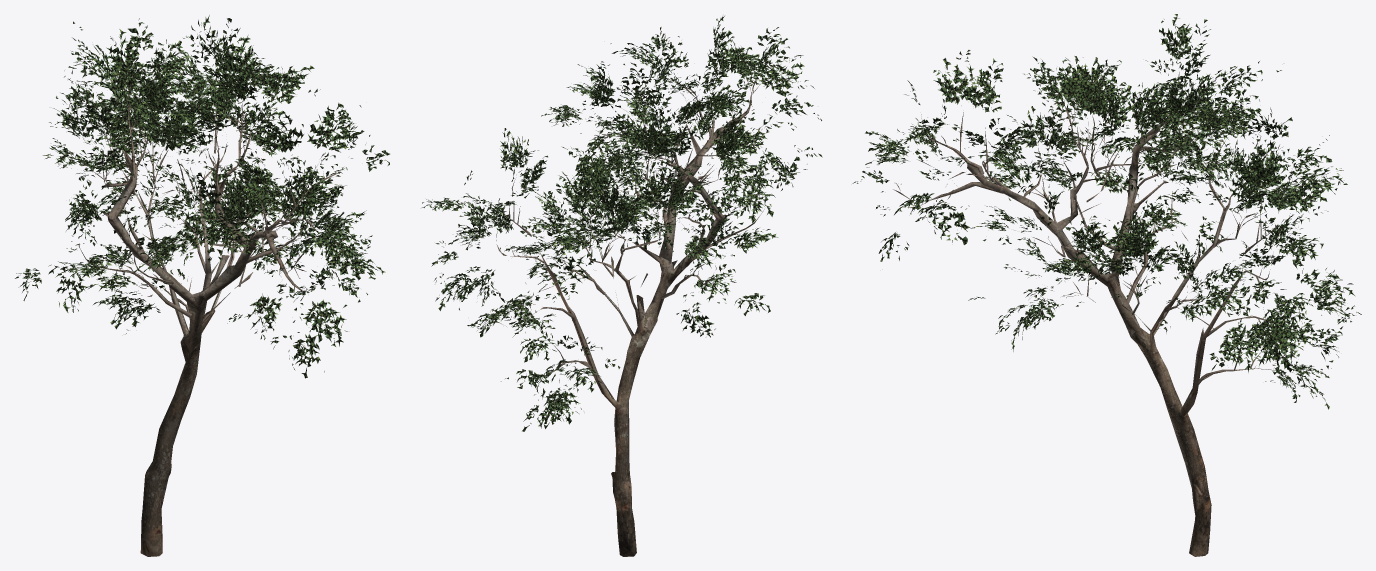
The model's file is tree_b.glb.
3 views of the same model, side by side, from view 1: azimuth 30°, elevation 25°; view 2: azimuth 150°, elevation 25°; view 3: azimuth 270°, elevation 25° (orthographic). The views are drawn at different scales.
Parts seen in each view (by area): view 1: tree_small_02_LOD0; view 2: tree_small_02_LOD0; view 3: tree_small_02_LOD0.
Boxes of the visible parts, x1,y1,x2,y2 form: tree_small_02_LOD0: (15, 15, 389, 556); tree_small_02_LOD0: (422, 16, 822, 556); tree_small_02_LOD0: (852, 14, 1361, 556).
Size of the model in its own units: 2.88 by 4.55 by 4.2.
3 materials, 3 textured.
